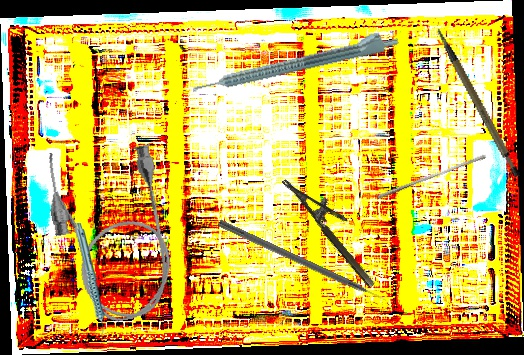Cannula: (38, 132, 185, 331)
Handpiece: (188, 25, 401, 97), (74, 223, 107, 337)
Hook Surgical: (216, 219, 388, 306)
Needle Holder: (281, 164, 390, 290)
Pusher: (376, 150, 487, 204)
Scalpel Handle: (435, 18, 523, 186)
